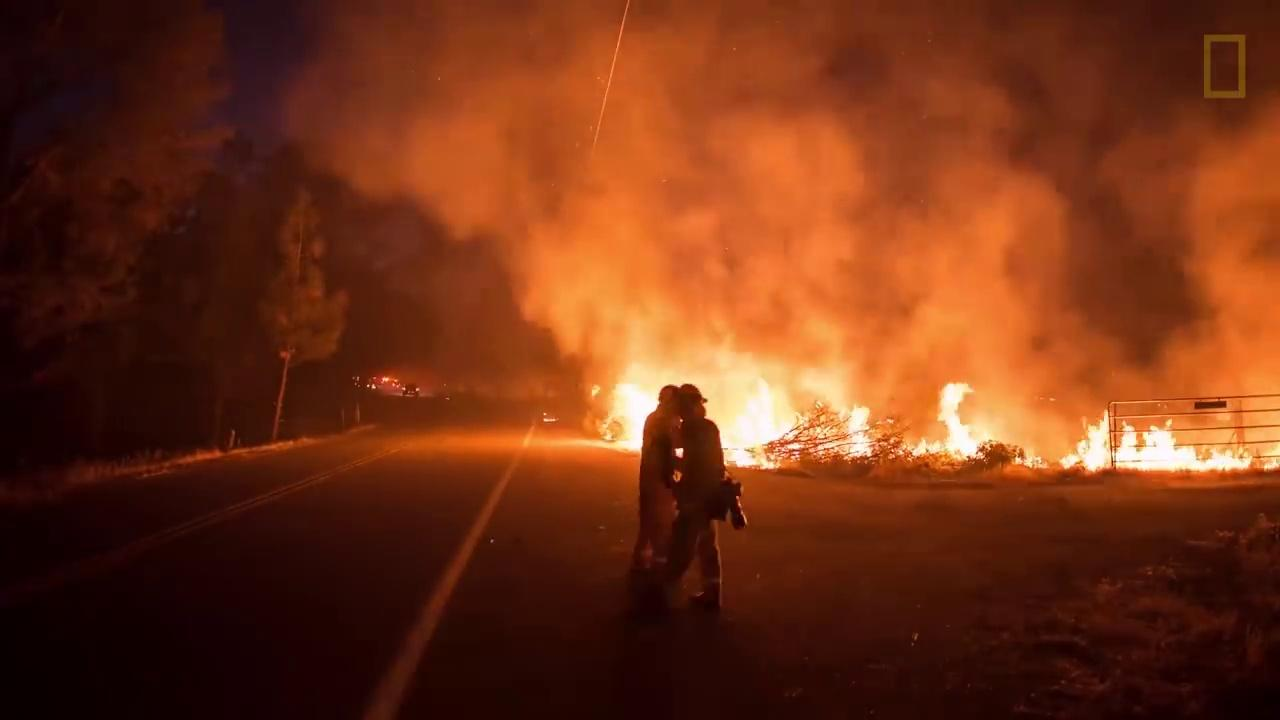Fire: (708, 344, 876, 473), (1058, 412, 1254, 475), (907, 378, 989, 464), (598, 375, 650, 452)
